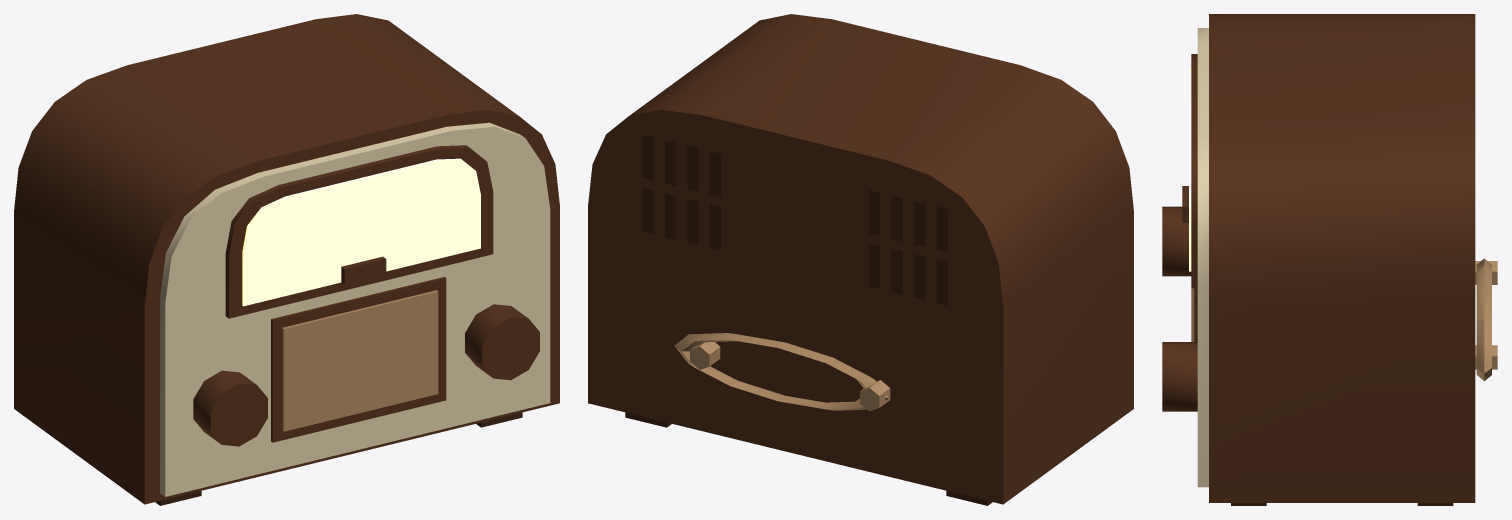
File: RadioR01.glb
3 renders of one model, left to right at view 1: azimuth 30°, elevation 25°; view 2: azimuth 150°, elevation 25°; view 3: azimuth 270°, elevation 25°, orthographic.
Visible parts, largest first — view 1: Body_Bakelite, Body_Cream, Body_DialGlow, Body_Grille; view 2: Body_Bakelite, Body_Dark, Body_Grille; view 3: Body_Bakelite, Body_Cream, Body_Grille, Body_DialGlow.
Part boxes in pixels (x1=…): Body_Bakelite: x1=14, y1=14, x2=559, y2=504; Body_Cream: x1=160, y1=122, x2=550, y2=496; Body_DialGlow: x1=242, y1=158, x2=480, y2=306; Body_Grille: x1=282, y1=290, x2=438, y2=431; Body_Bakelite: x1=588, y1=14, x2=1133, y2=504; Body_Dark: x1=625, y1=134, x2=992, y2=505; Body_Grille: x1=674, y1=333, x2=890, y2=411; Body_Bakelite: x1=1162, y1=14, x2=1475, y2=502; Body_Cream: x1=1197, y1=28, x2=1208, y2=487; Body_Grille: x1=1191, y1=258, x2=1497, y2=381; Body_DialGlow: x1=1189, y1=67, x2=1191, y2=271.
Bounding box in the file's own units: 2.2 × 1.68 × 1.51.
